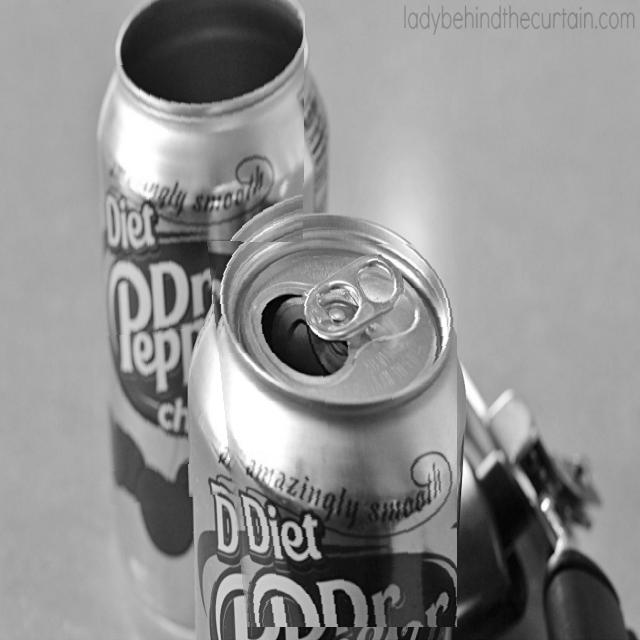Cans: (93, 0, 305, 507), (207, 241, 457, 627)
